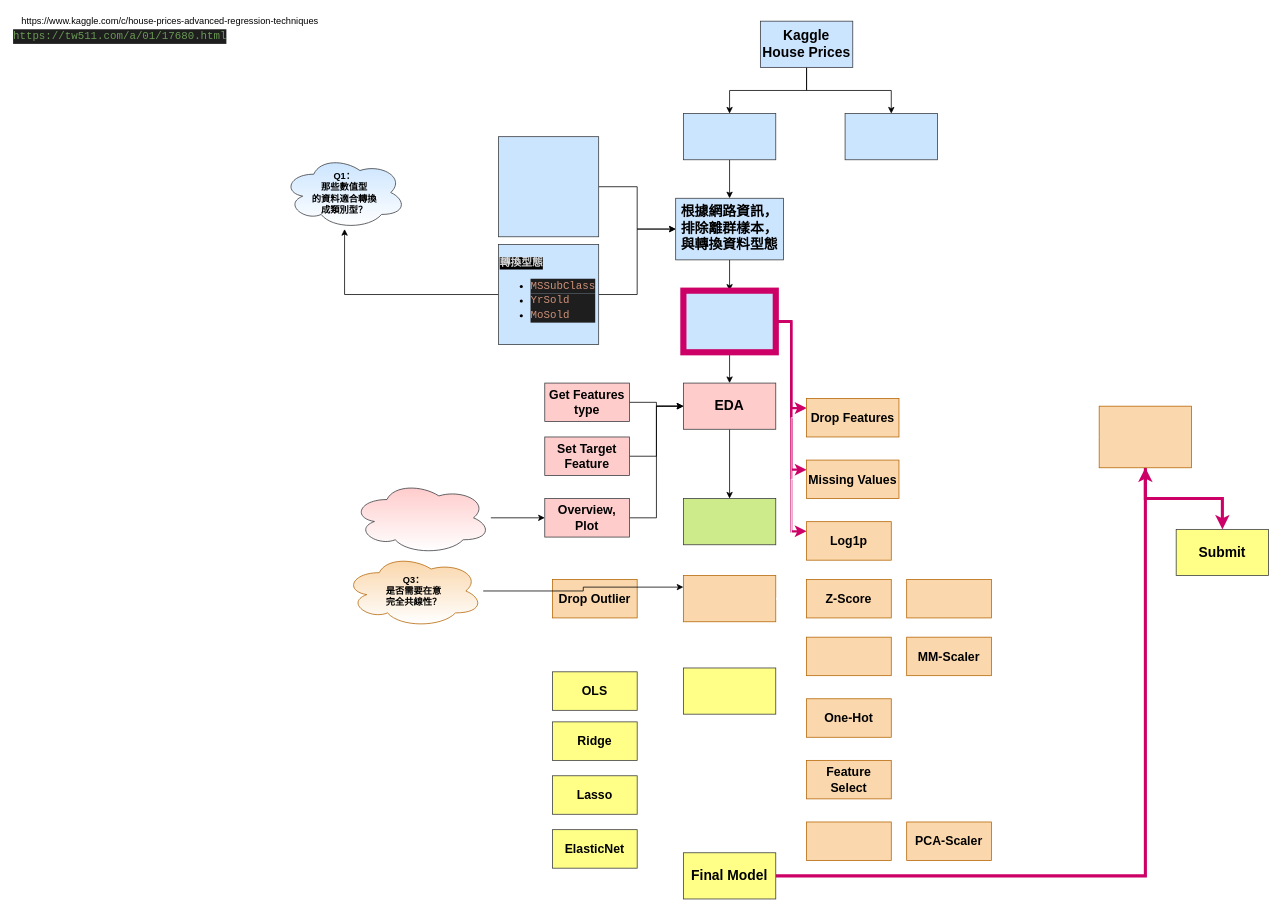
The diagram is 1282 pixels wide and 912 high, and some of its shapes have lost their labels. Here are the shapes that lost their labels. From the top down, the centre of each, then its label:
At pixel 729 136: "Train Data".
At pixel 890 136: "Test Data".
At pixel 548 186: "離群值 GrLivArea TotalBsmtSF 1stFlrSF".
At pixel 729 321: "個別觀察Numeric Features".
At pixel 1145 436: "Test Data Features Engineering".
At pixel 421 517: "Q2： 是否要以General的 方式畫圖， 或是Case by case？".
At pixel 729 521: "Outlier".
At pixel 729 598: "Features Engineering".
At pixel 948 598: "Z-Scaler".
At pixel 848 656: "MinMaxScore".
At pixel 729 690: "Model Selecting".
At pixel 848 840: "PCA".
